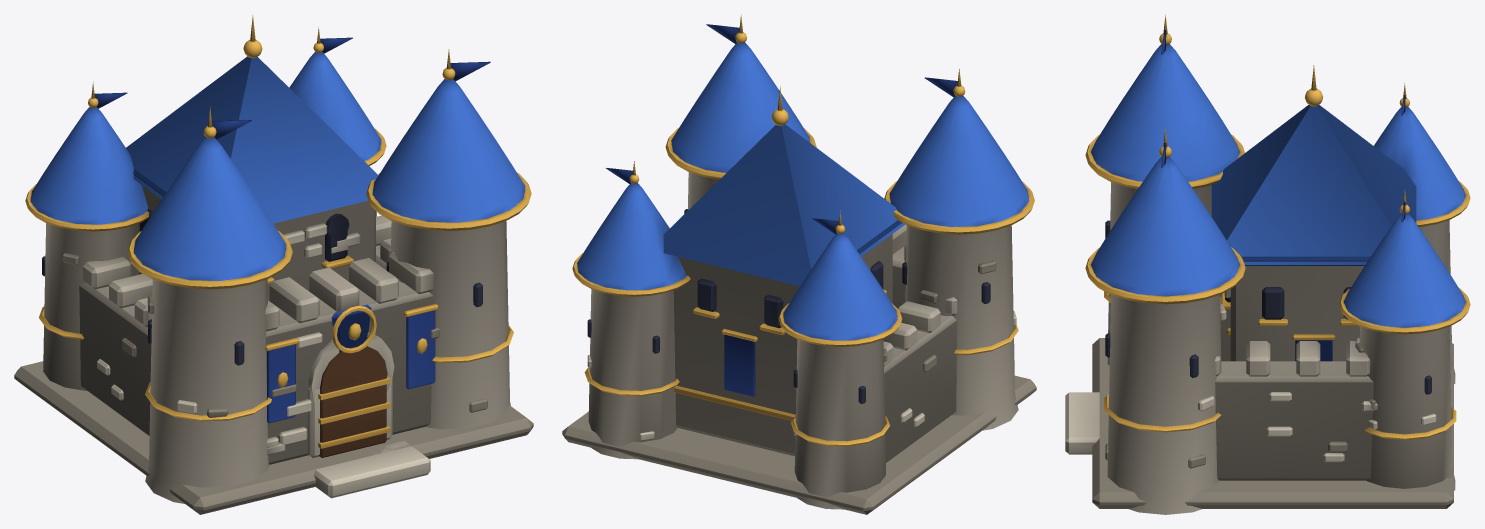
The model's file is castle_lv1.glb.
3 views of the same model, side by side, from view 1: azimuth 30°, elevation 25°; view 2: azimuth 150°, elevation 25°; view 3: azimuth 270°, elevation 25° (orthographic). The views are drawn at different scales.
Visible parts, largest first — view 1: Castle; view 2: Castle; view 3: Castle.
Part boxes in pixels (<box>): Castle: <box>14,15,533,514</box>; Castle: <box>562,14,1036,514</box>; Castle: <box>1065,15,1470,514</box>.
Size of the model in its own units: 2.3 by 2.19 by 2.18.
1 material, 1 textured.
